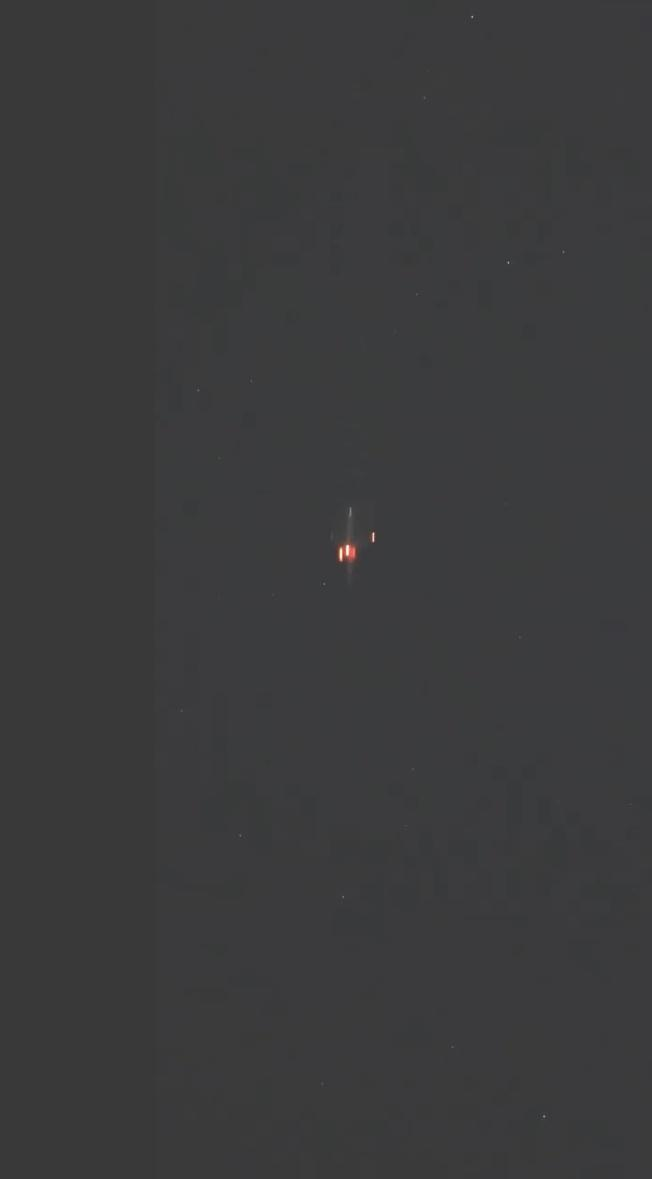Plane: (311, 478, 391, 597)
